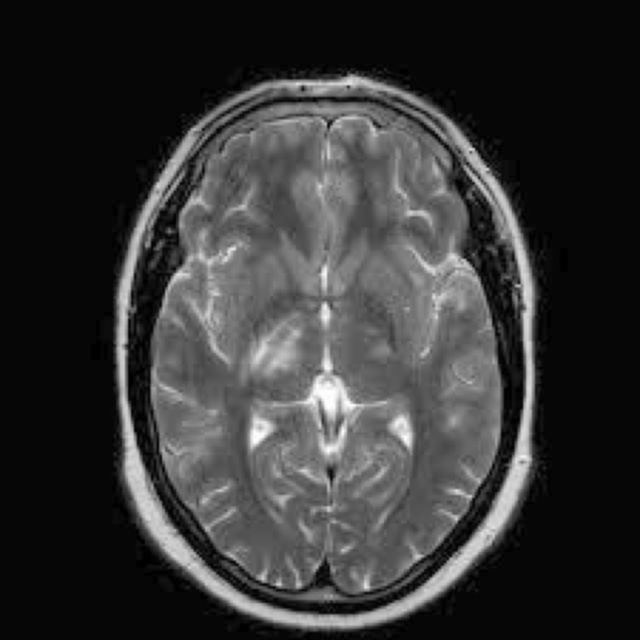glioma tumor: (205, 125, 452, 566)
